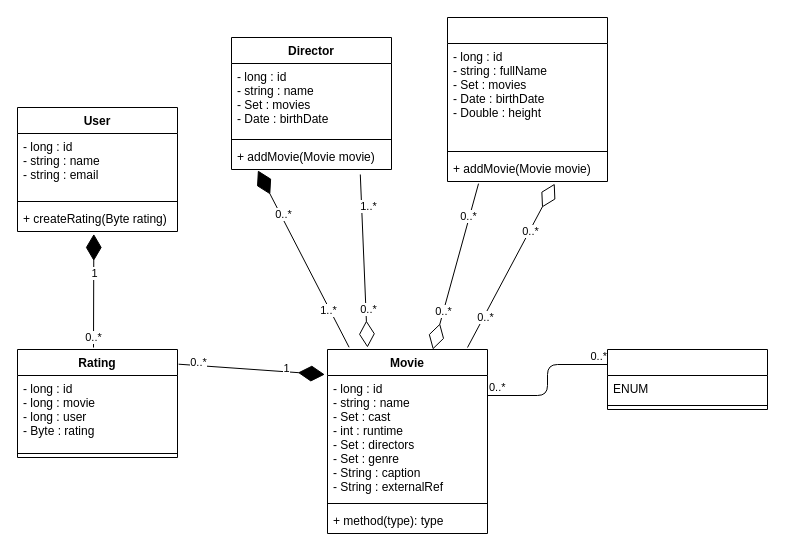
Image size: 785x554. Some labels were removed from this diagram. The shapes that lost their labels are listed below. From the top down, each one's box as (x1, y1, x2, y2) in pixels, then its label:
(446, 16, 608, 182): Actor
(606, 348, 768, 410): Genre
